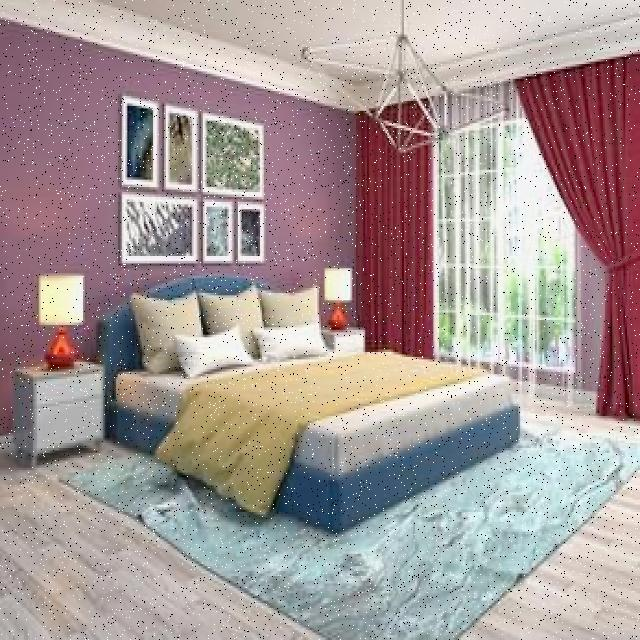bed: (109, 271, 494, 477)
